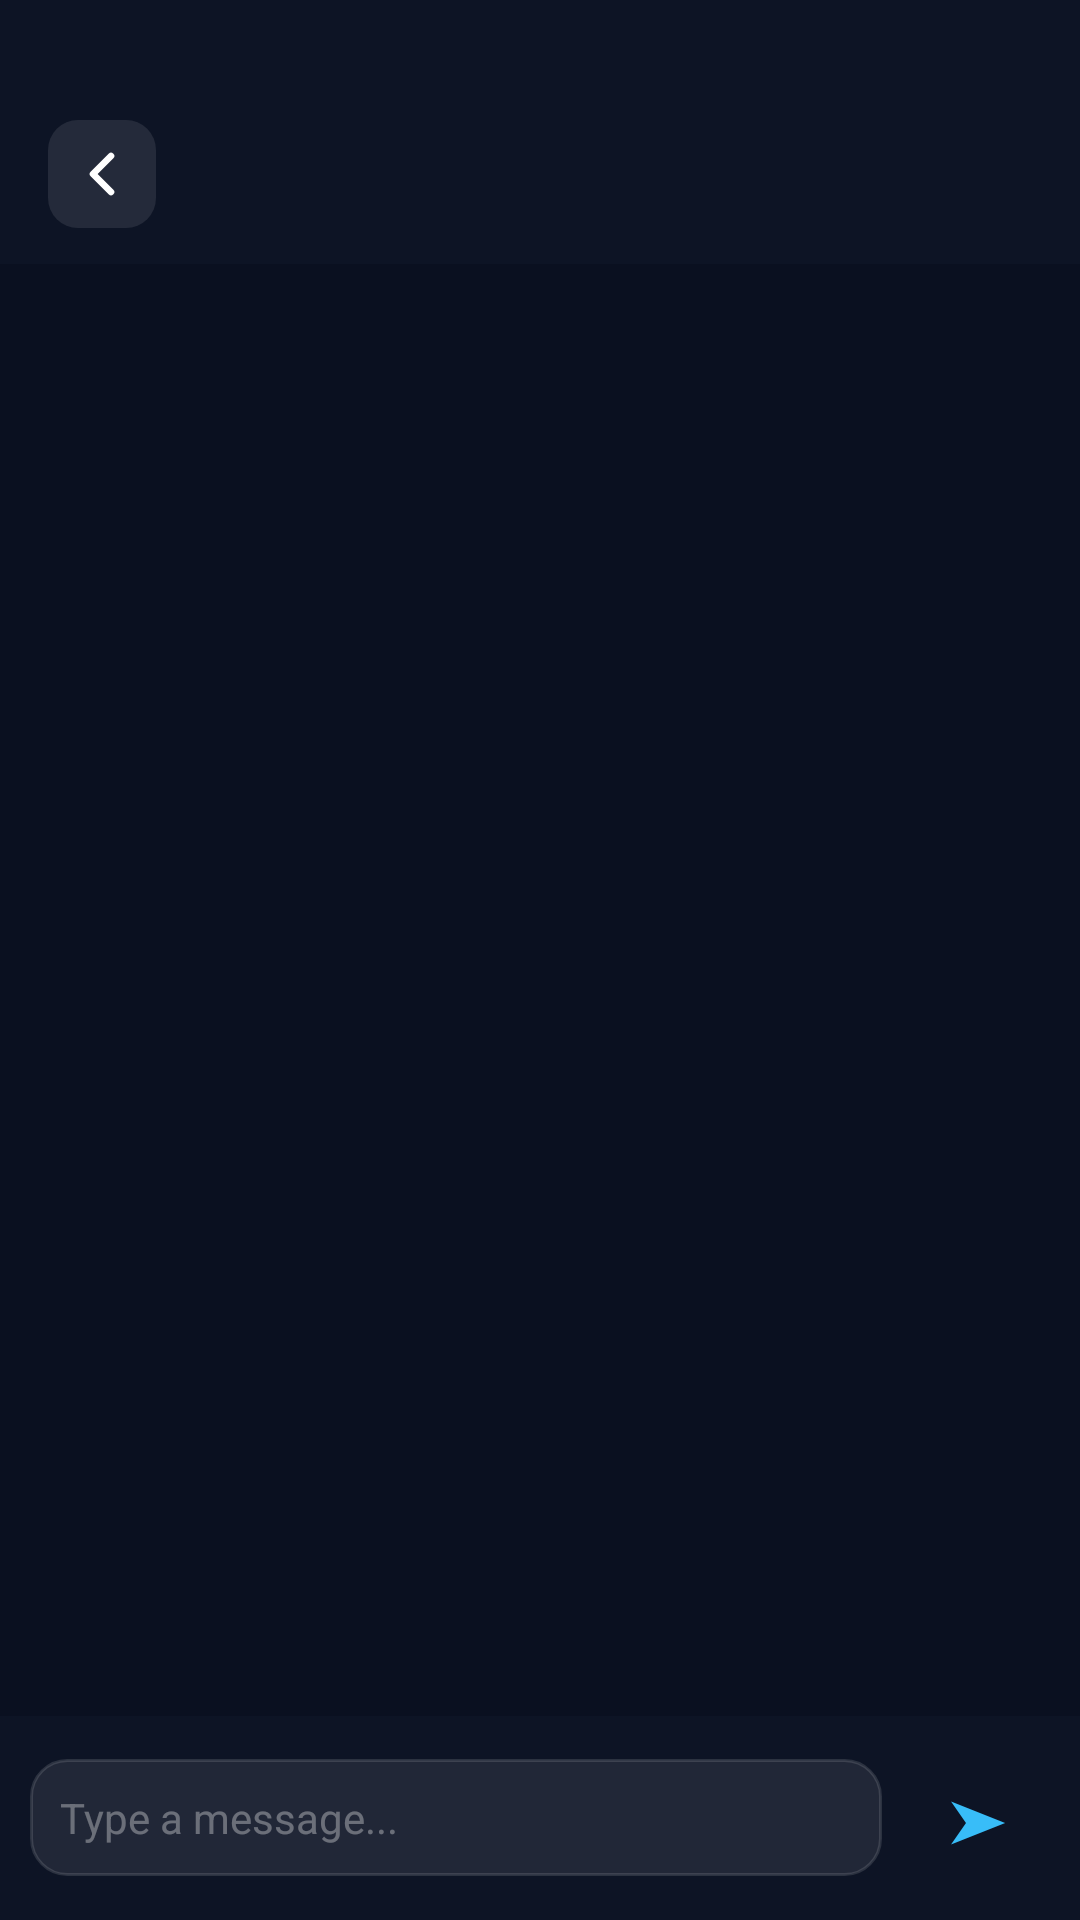

Where icons sit on this 1080*1920 app screen, as {"x1": x1, "y1": y1, "x2": x2, "y2": y2}:
Back: {"x1": 48, "y1": 120, "x2": 156, "y2": 228}
